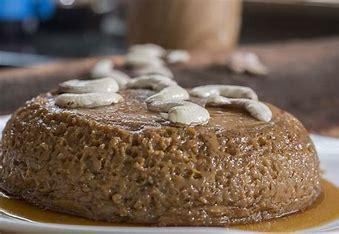Watalappam: (4, 31, 325, 231)
